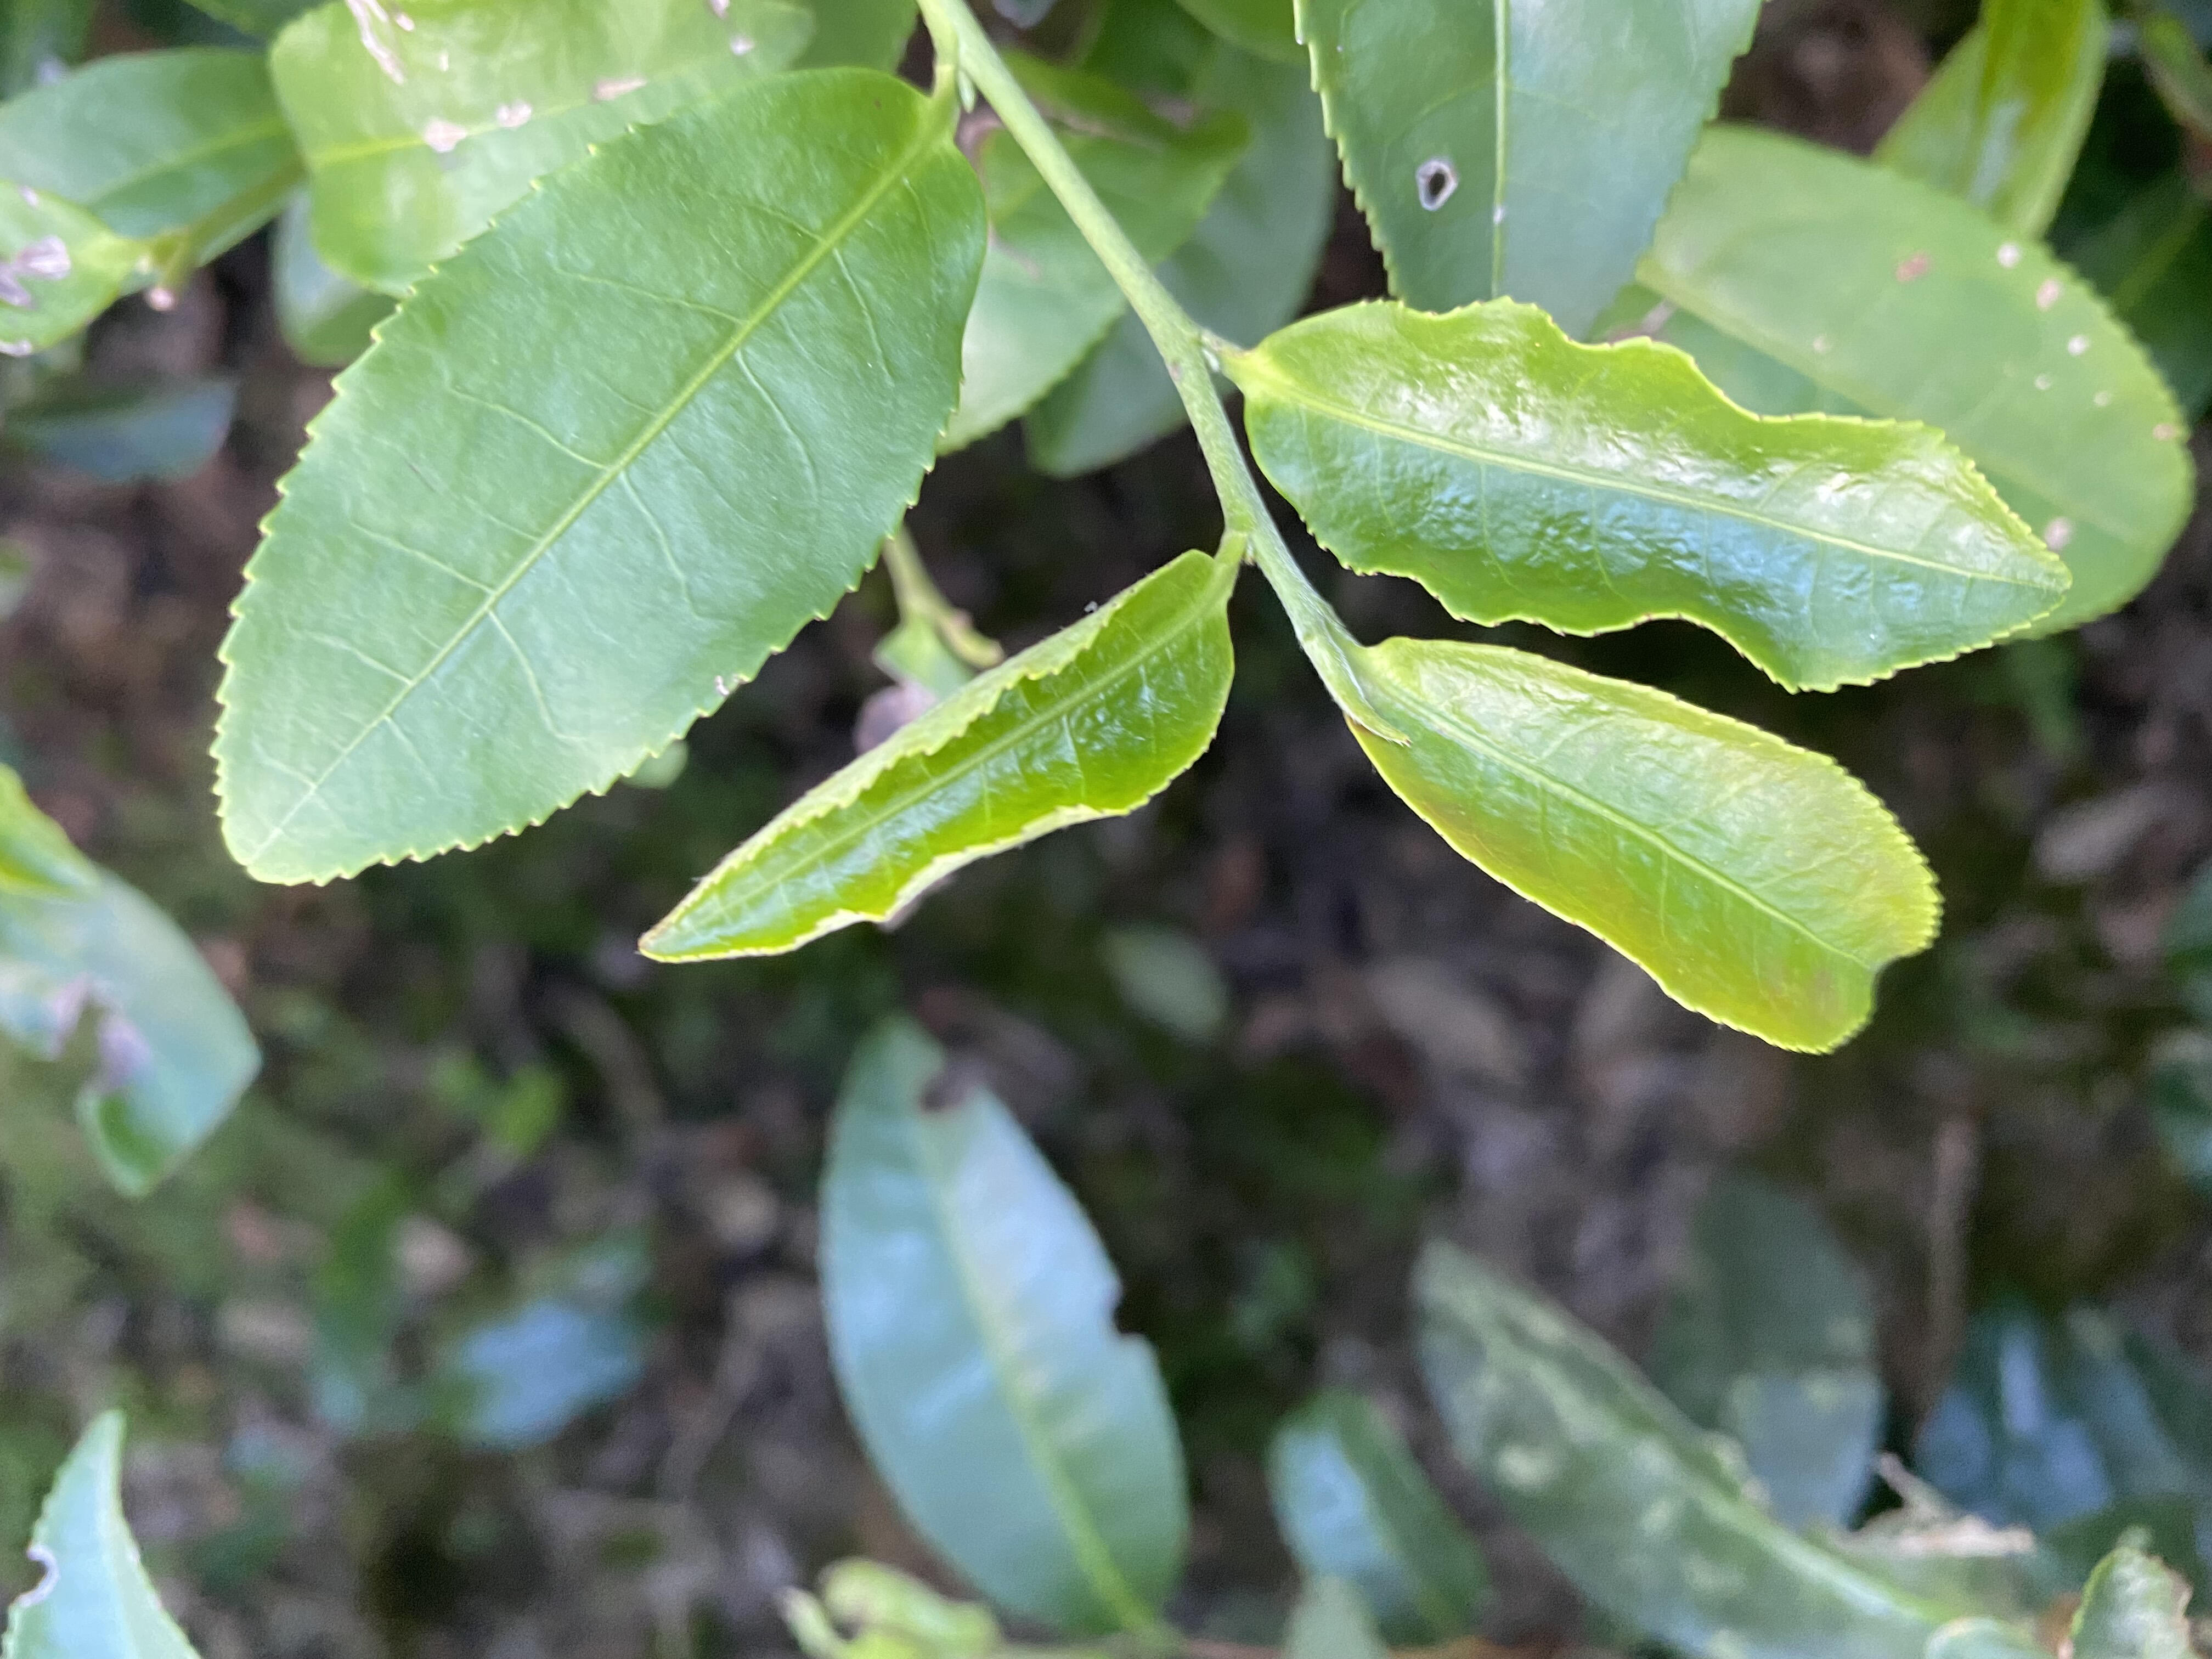chihuo_high: (808, 1006, 1193, 1638)
chihuo_low: (1287, 2, 1768, 342)
healthy: (207, 68, 1000, 890), (1240, 298, 2076, 702), (1345, 638, 1947, 1060), (637, 547, 1240, 965)
tanju_high: (265, 2, 822, 295)
